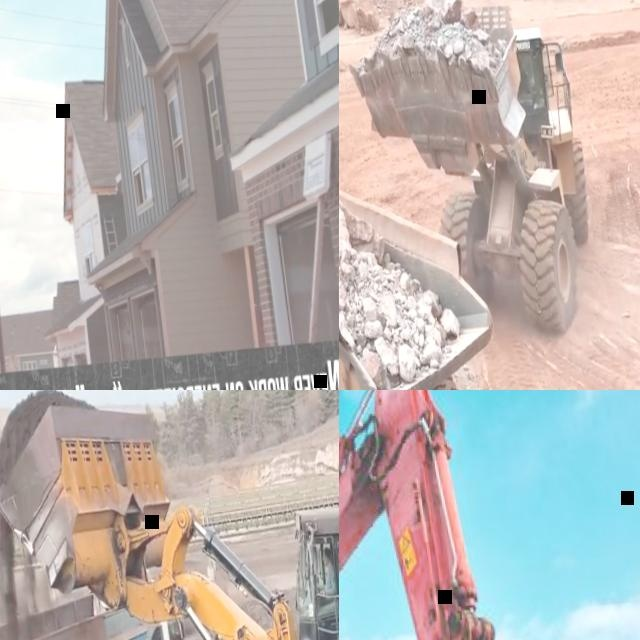NO-Hardhat: (323, 546, 331, 556)
NO-Mask: (322, 560, 327, 567)
NO-Safety Vest: (322, 564, 335, 590)
Person: (308, 545, 337, 610)
machinery: (339, 0, 604, 356), (0, 390, 339, 640), (339, 390, 640, 640), (339, 131, 519, 390), (0, 568, 203, 640)
